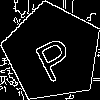P: (27, 27, 79, 84)
